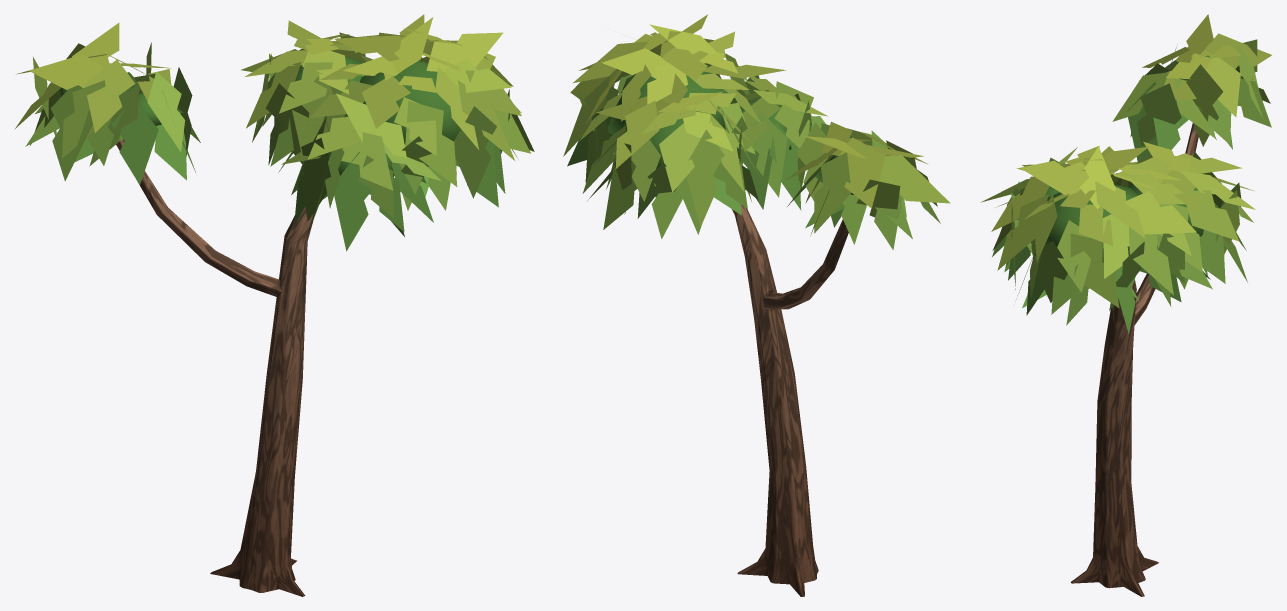
Rendered from tree_sapling_1.glb.
3 views of the same model, side by side, from view 1: azimuth 30°, elevation 25°; view 2: azimuth 150°, elevation 25°; view 3: azimuth 270°, elevation 25° (orthographic). The views are drawn at different scales.
Visible parts, largest first — view 1: tree_sapling_1; view 2: tree_sapling_1; view 3: tree_sapling_1.
Boxes of the visible parts, x1,y1,x2,y2 form: tree_sapling_1: (14, 14, 534, 596); tree_sapling_1: (563, 14, 950, 596); tree_sapling_1: (980, 14, 1271, 596).
Bounding box in the file's own units: 3.1 × 3.5 × 1.9.
2 materials, 2 textured.
